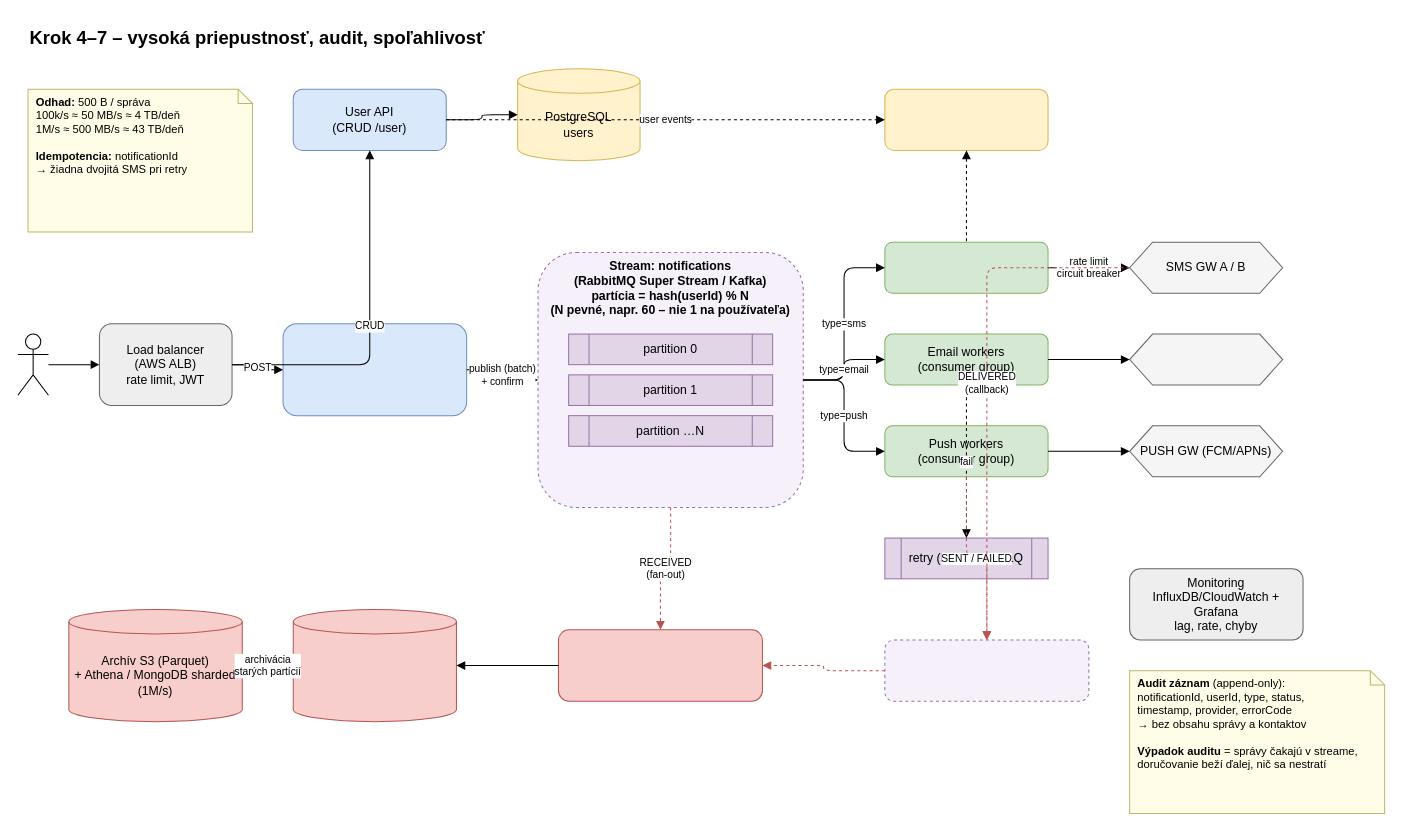
The diagram is 1403 pixels wide and 831 high, and some of its shapes have lost their labels. The box of each missing label's shape, as (x1, y1, x2, y2) in pixels:
Audit consumer (batch insert, napr. 5 000 / 100 ms): (557, 629, 762, 701)
Audit storage Postgres partície podľa dňa (100k/s): (292, 608, 456, 722)
Cache kontaktov (Hazelcast): (884, 88, 1048, 150)
Client: (17, 333, 48, 395)
EMAIL GW: (1129, 333, 1283, 385)
Notification API N inštancií POST /notification(s/batch) → 202 + notificationId: (282, 323, 467, 416)
SMS workers (consumer group): (884, 241, 1048, 293)
Stream: audit-events: (884, 639, 1089, 701)
